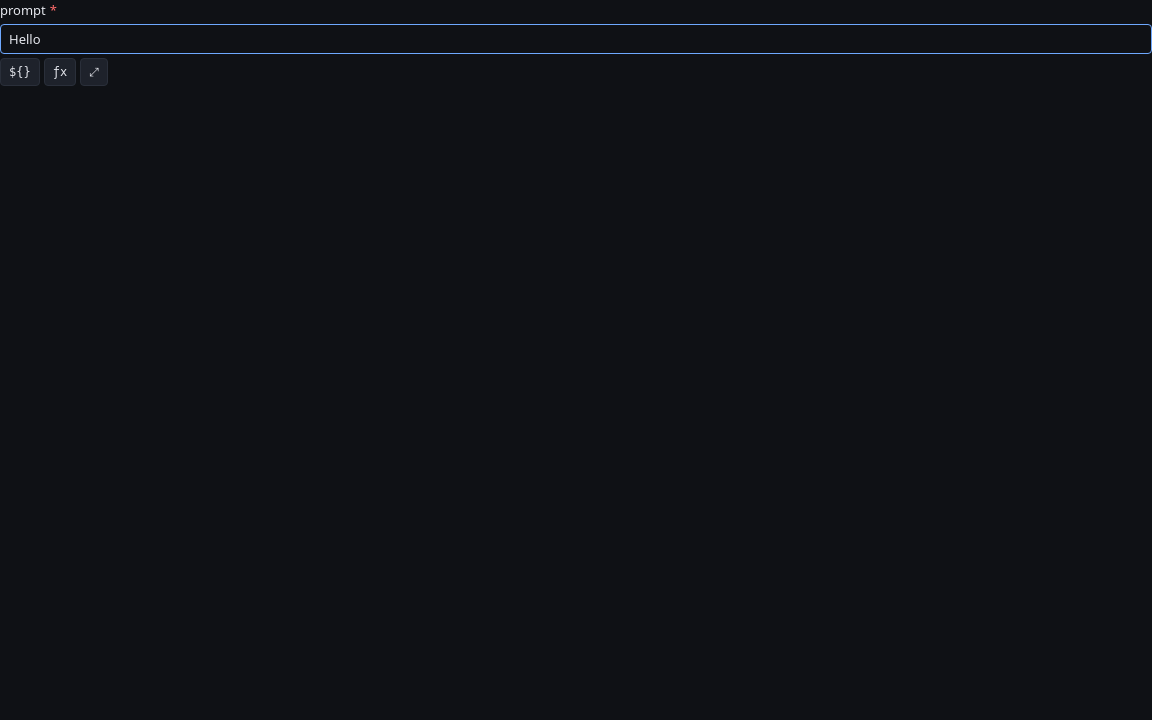
Test: ExpressionEditor — ⤢ on a config field (#1694 OR42 F10) › opens a modal editor seeded with the field, named by it
This screenshot has width=1152, height=720.
Click the button named "in the editor".
click(94, 72)  # box top-left (80, 58), bottom-right (108, 86)
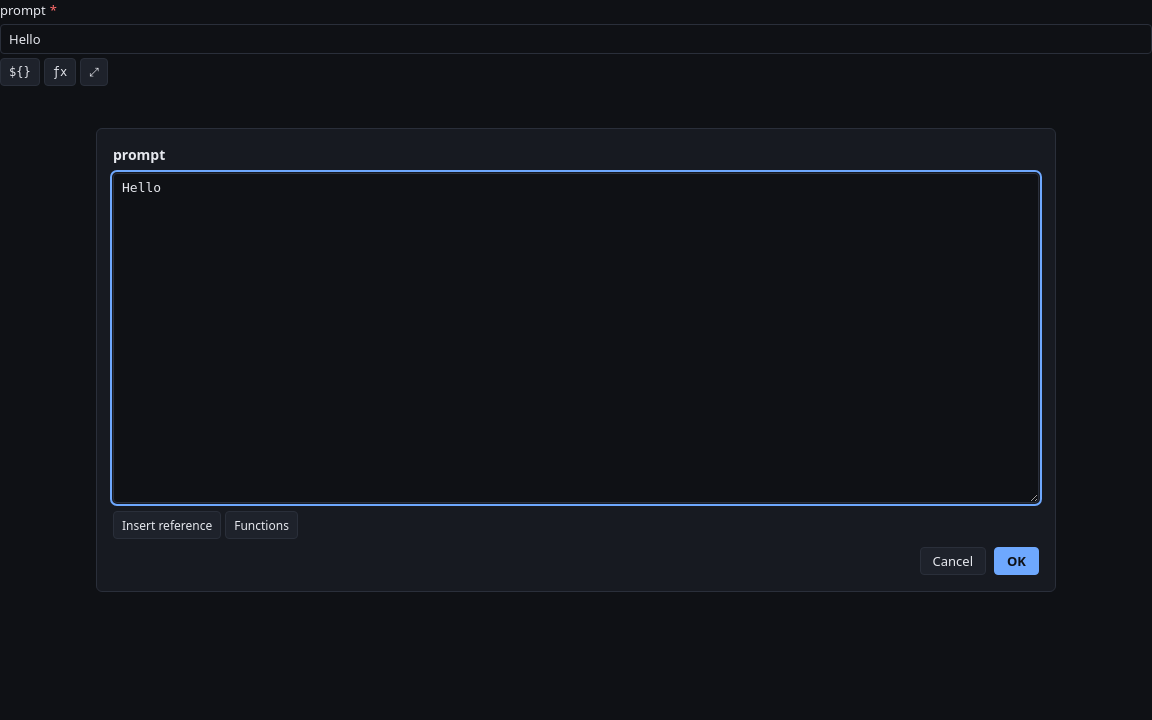
expect the text box labelled "prompt" holds "Hello": met, box top-left (113, 173), bottom-right (1039, 503)
